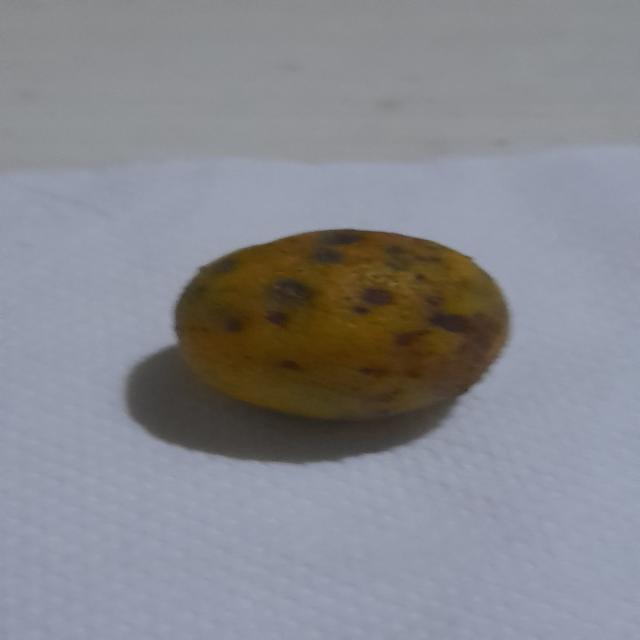black spot: (178, 229, 516, 426)
